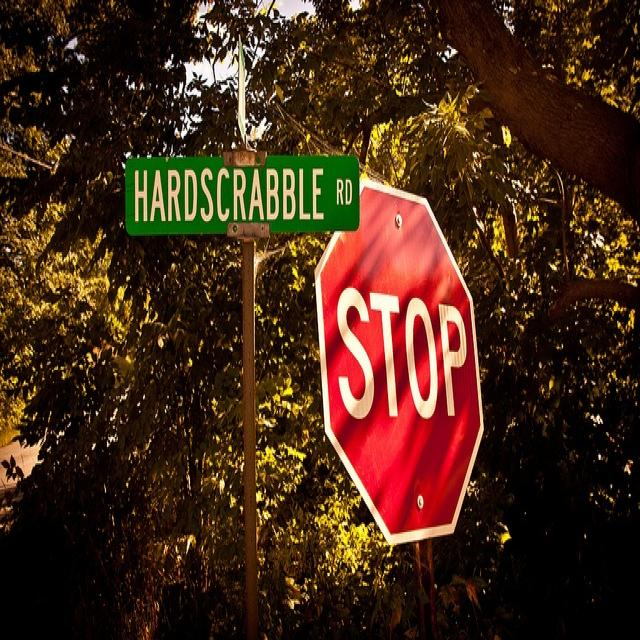pole: (236, 240, 266, 632)
